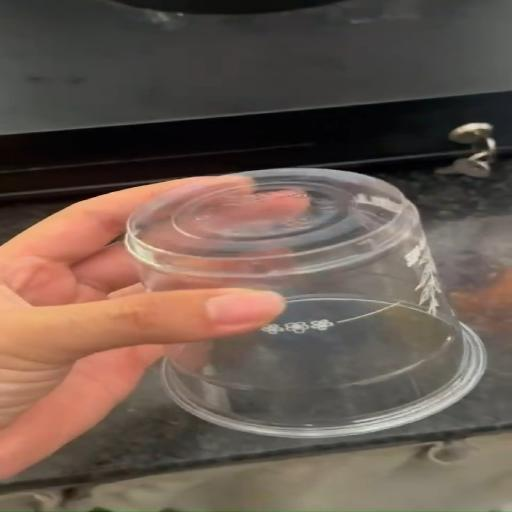ly_nhua: (125, 168, 485, 438)
